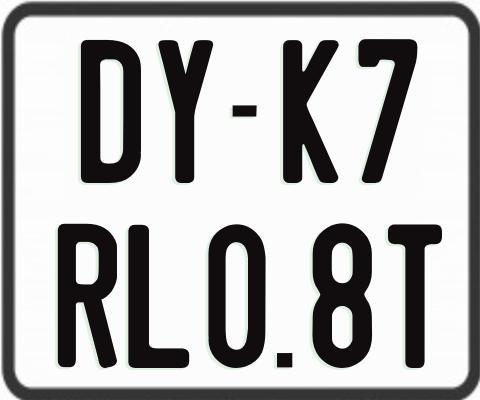0: (208, 223, 269, 372)
7: (358, 38, 421, 187)
8: (310, 223, 375, 372)
D: (80, 39, 142, 187)
K: (283, 38, 341, 185)
L: (126, 224, 187, 367)
R: (57, 221, 122, 368)
T: (385, 224, 443, 368)
Y: (158, 37, 218, 184)
